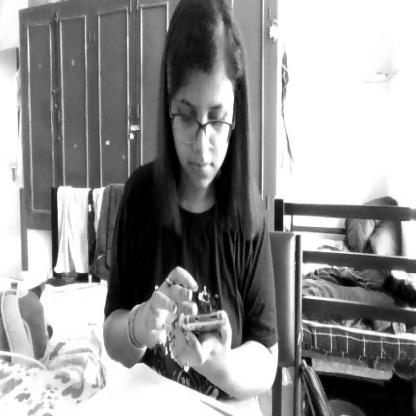Normal: (162, 0, 242, 193)
